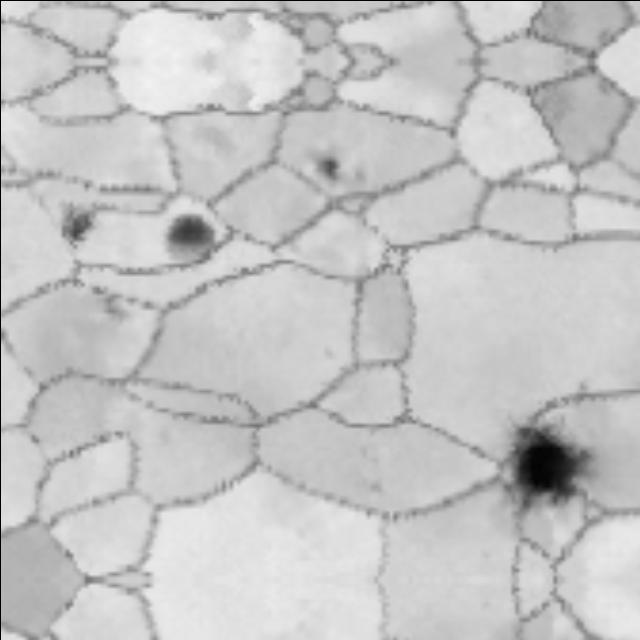good_void: (506, 422, 589, 513), (151, 207, 222, 267), (88, 282, 141, 333), (309, 150, 343, 185), (62, 206, 93, 244), (358, 470, 388, 501), (568, 370, 593, 395)
